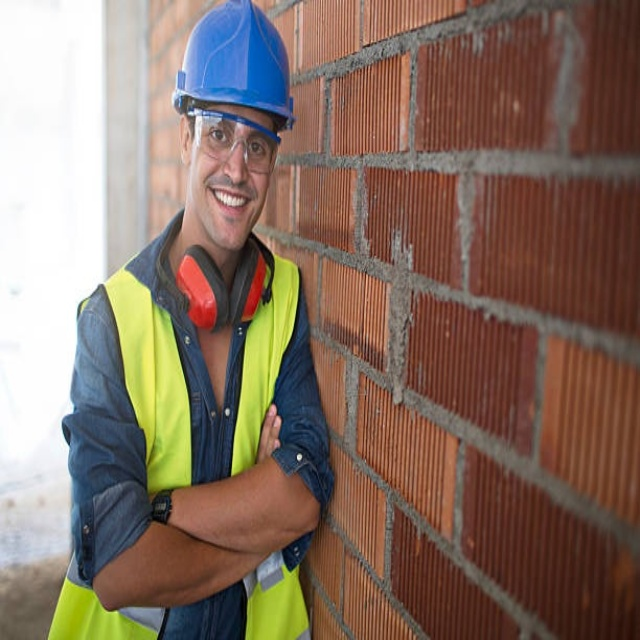Gafas: (187, 110, 282, 177)
Sin_guantes: (250, 395, 288, 466)
Sin_mascara: (207, 179, 252, 237)
